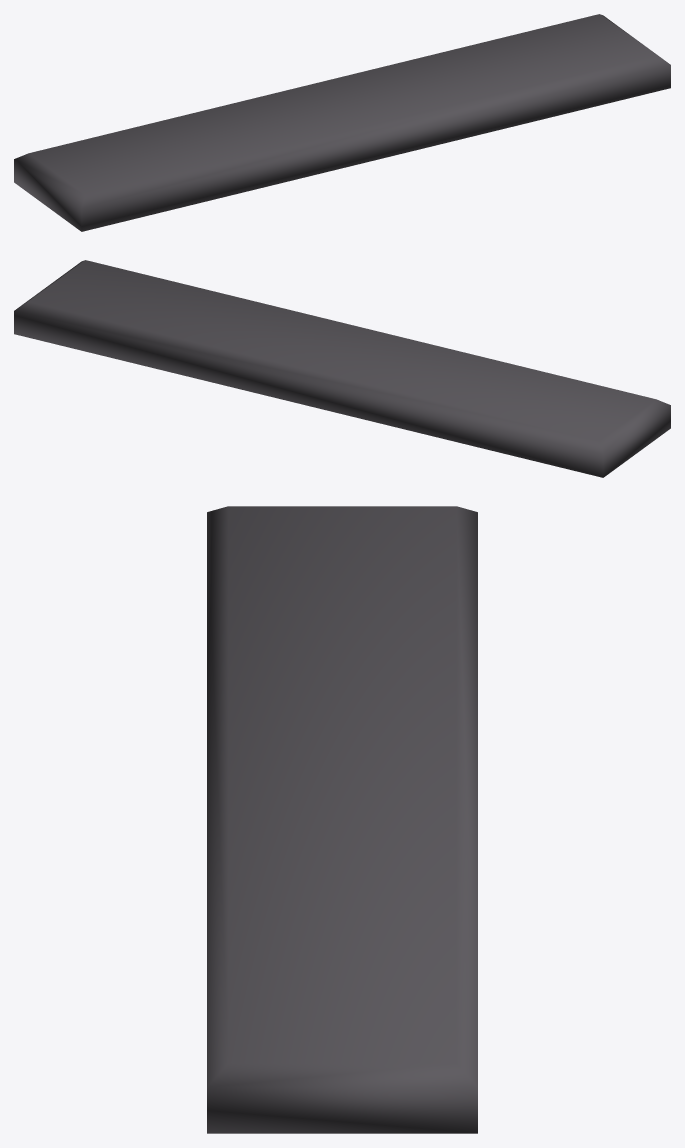
File: InishmoreFlatRock_3width_Var3.fbx
The picture shows the model from 3 angles, top to bottom: view 1: azimuth 30°, elevation 25°; view 2: azimuth 150°, elevation 25°; view 3: azimuth 270°, elevation 25°; orthographic projection. The views are drawn at different scales.
Parts seen in each view (by area): view 1: InishmoreFlatRock.012; view 2: InishmoreFlatRock.012; view 3: InishmoreFlatRock.012.
Boxes of the visible parts, bbox=[...] form: InishmoreFlatRock.012: bbox=[14, 14, 670, 231]; InishmoreFlatRock.012: bbox=[14, 260, 670, 477]; InishmoreFlatRock.012: bbox=[207, 506, 477, 1133].
Size of the model in its own units: 591 by 29.45 by 117.
